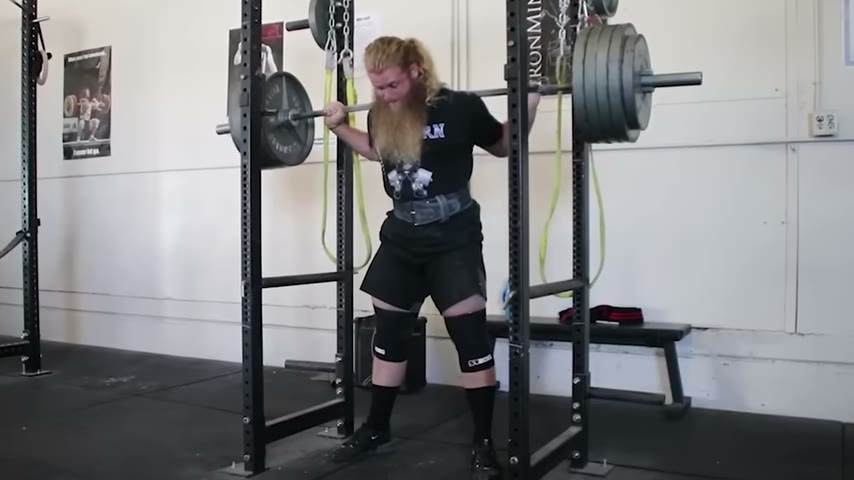barbell_plate_side: (632, 12, 708, 128), (240, 63, 301, 174)
